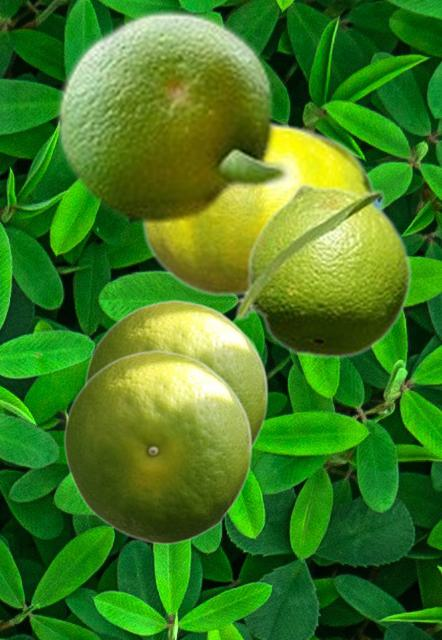dalandan: (54, 6, 290, 224), (140, 119, 375, 297), (63, 349, 251, 544), (233, 182, 412, 359), (84, 299, 267, 449)
